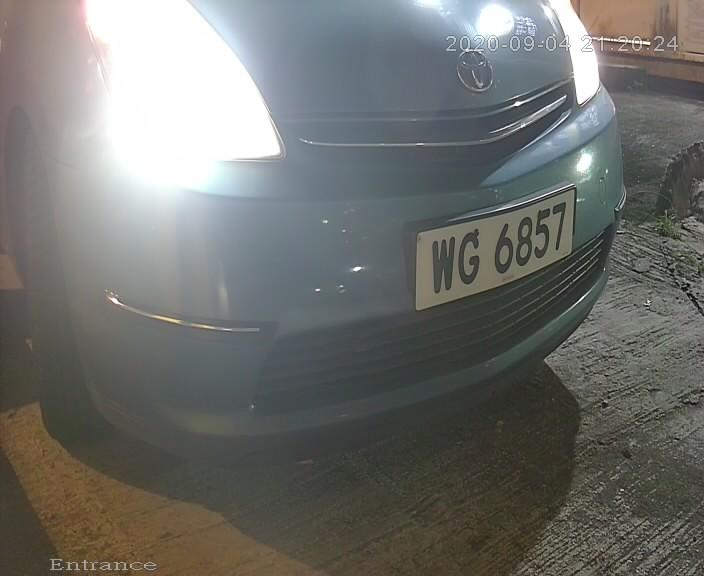License Plate: (409, 183, 579, 322)
